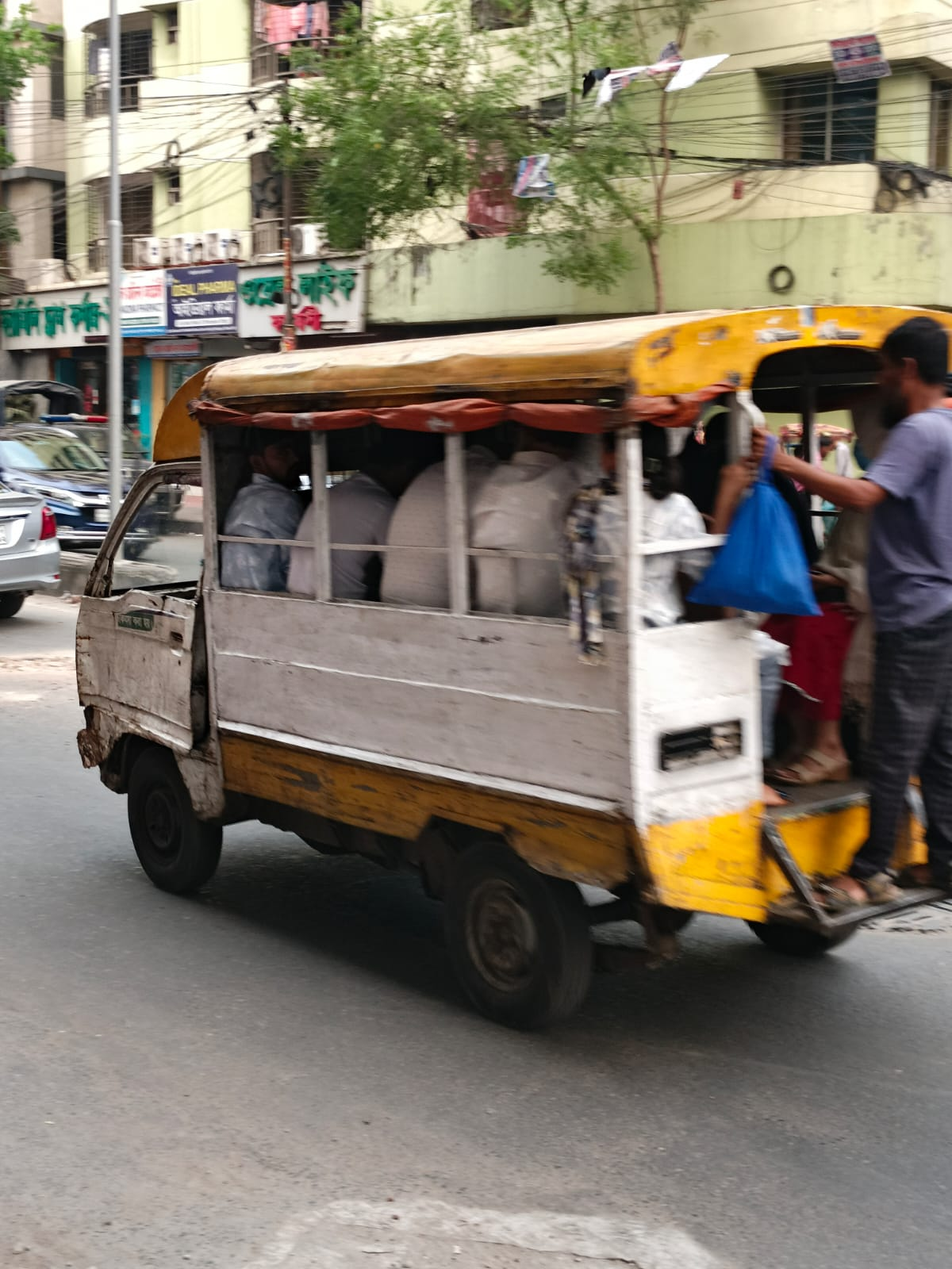Leguna: (69, 291, 952, 1050)
Police cars: (0, 347, 173, 538)
private car: (0, 421, 74, 693)
